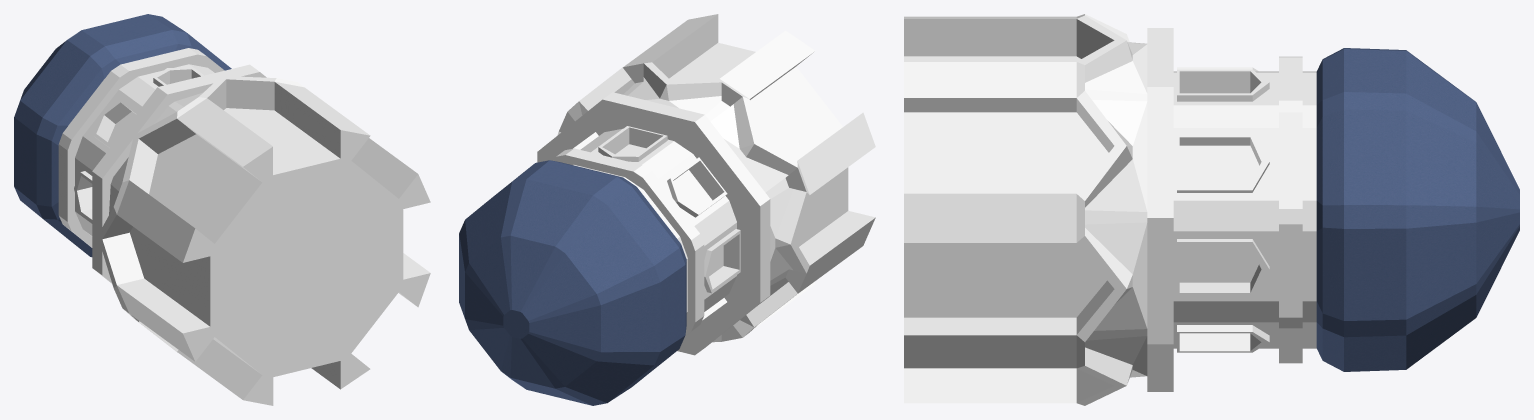
File: venice_palace_0.fbx
The picture shows the model from 3 angles, left to right: view 1: azimuth 30°, elevation 25°; view 2: azimuth 150°, elevation 25°; view 3: azimuth 270°, elevation 25°; orthographic projection. The views are drawn at different scales.
Parts seen in each view (by area): view 1: Cube.279; view 2: Cube.279; view 3: Cube.279.
Boxes of the visible parts, box(x1,y1,x2,y2) form: Cube.279: box(14, 14, 430, 405); Cube.279: box(459, 14, 875, 405); Cube.279: box(904, 14, 1519, 405).
Bounding box in the file's own units: 816 × 816 × 1343.
